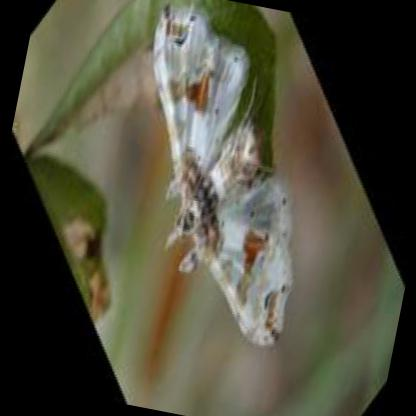leucinodes: (150, 7, 293, 348)
